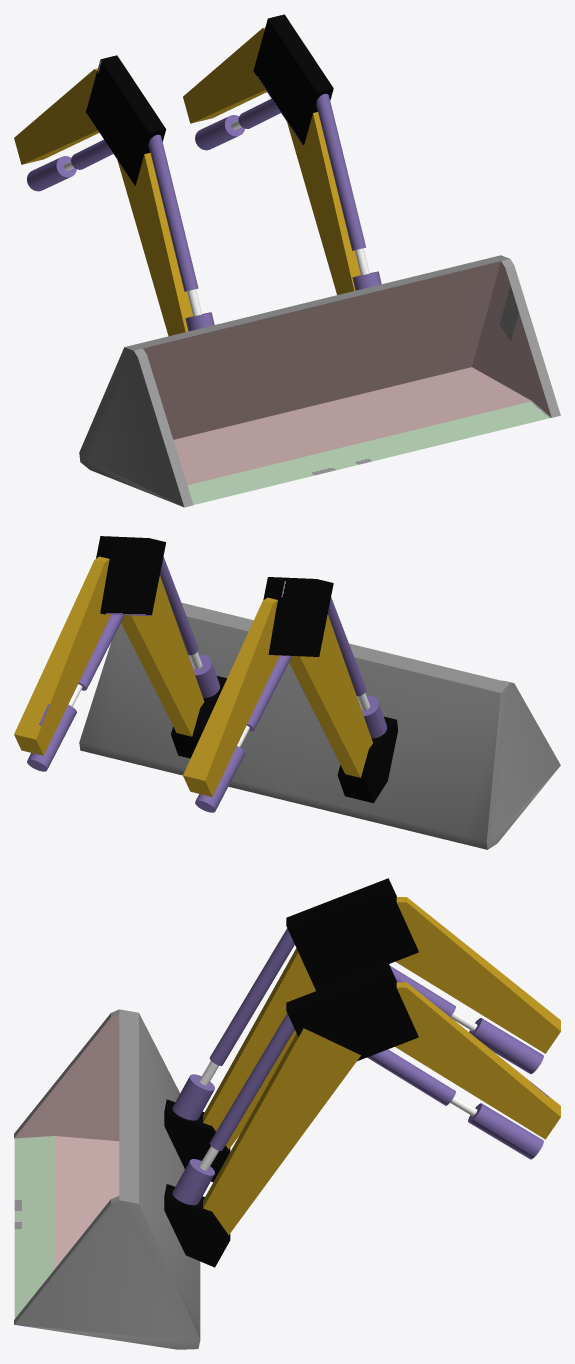
The model's file is ladle.fbx.
The picture shows the model from 3 angles, top to bottom: view 1: azimuth 30°, elevation 25°; view 2: azimuth 150°, elevation 25°; view 3: azimuth 270°, elevation 25°; orthographic projection. The views are drawn at different scales.
Visible parts, largest first — view 1: ladle; view 2: ladle; view 3: ladle.
Part boxes in pixels (box(x1,y1,x2,y2)): ladle: box(14, 14, 560, 507); ladle: box(14, 536, 560, 849); ladle: box(14, 878, 560, 1349).
Bounding box in the file's own units: 258 × 187 × 289.
Materials: 1 (1 with a texture image).
